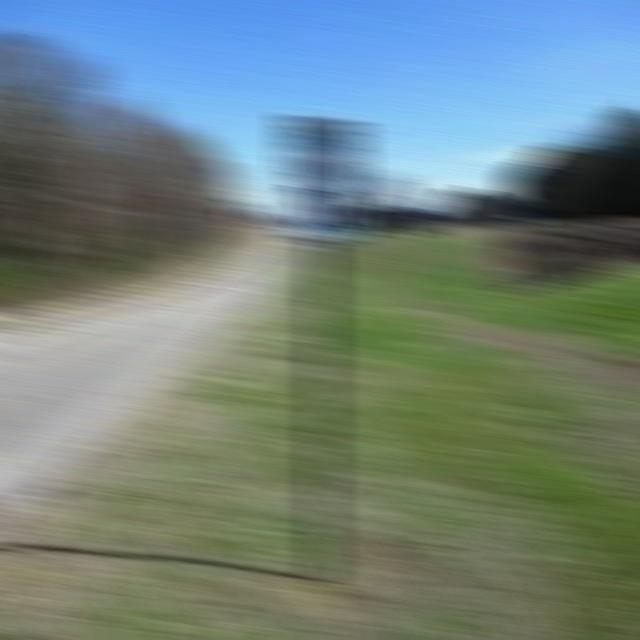speedLimit30: (279, 122, 368, 244)
